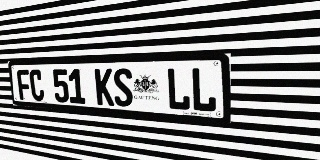1: (67, 69, 85, 104)
5: (52, 69, 70, 103)
C: (29, 69, 45, 101)
F: (16, 70, 32, 100)
K: (95, 68, 114, 106)
L: (191, 67, 217, 113), (166, 68, 191, 111)
S: (113, 68, 134, 107)
